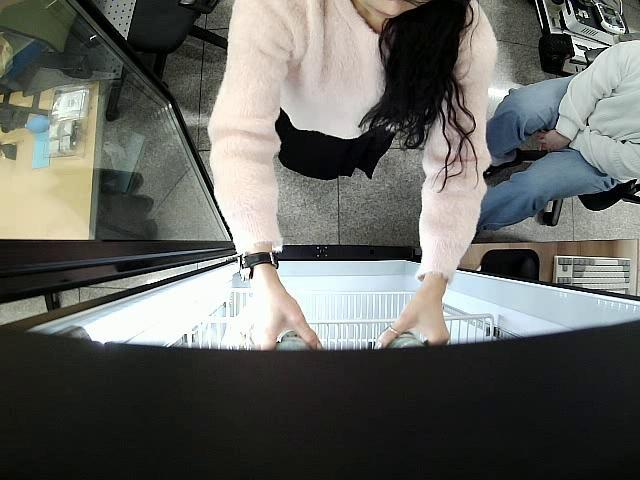18_trevi: (380, 325, 428, 352), (270, 326, 316, 354)
